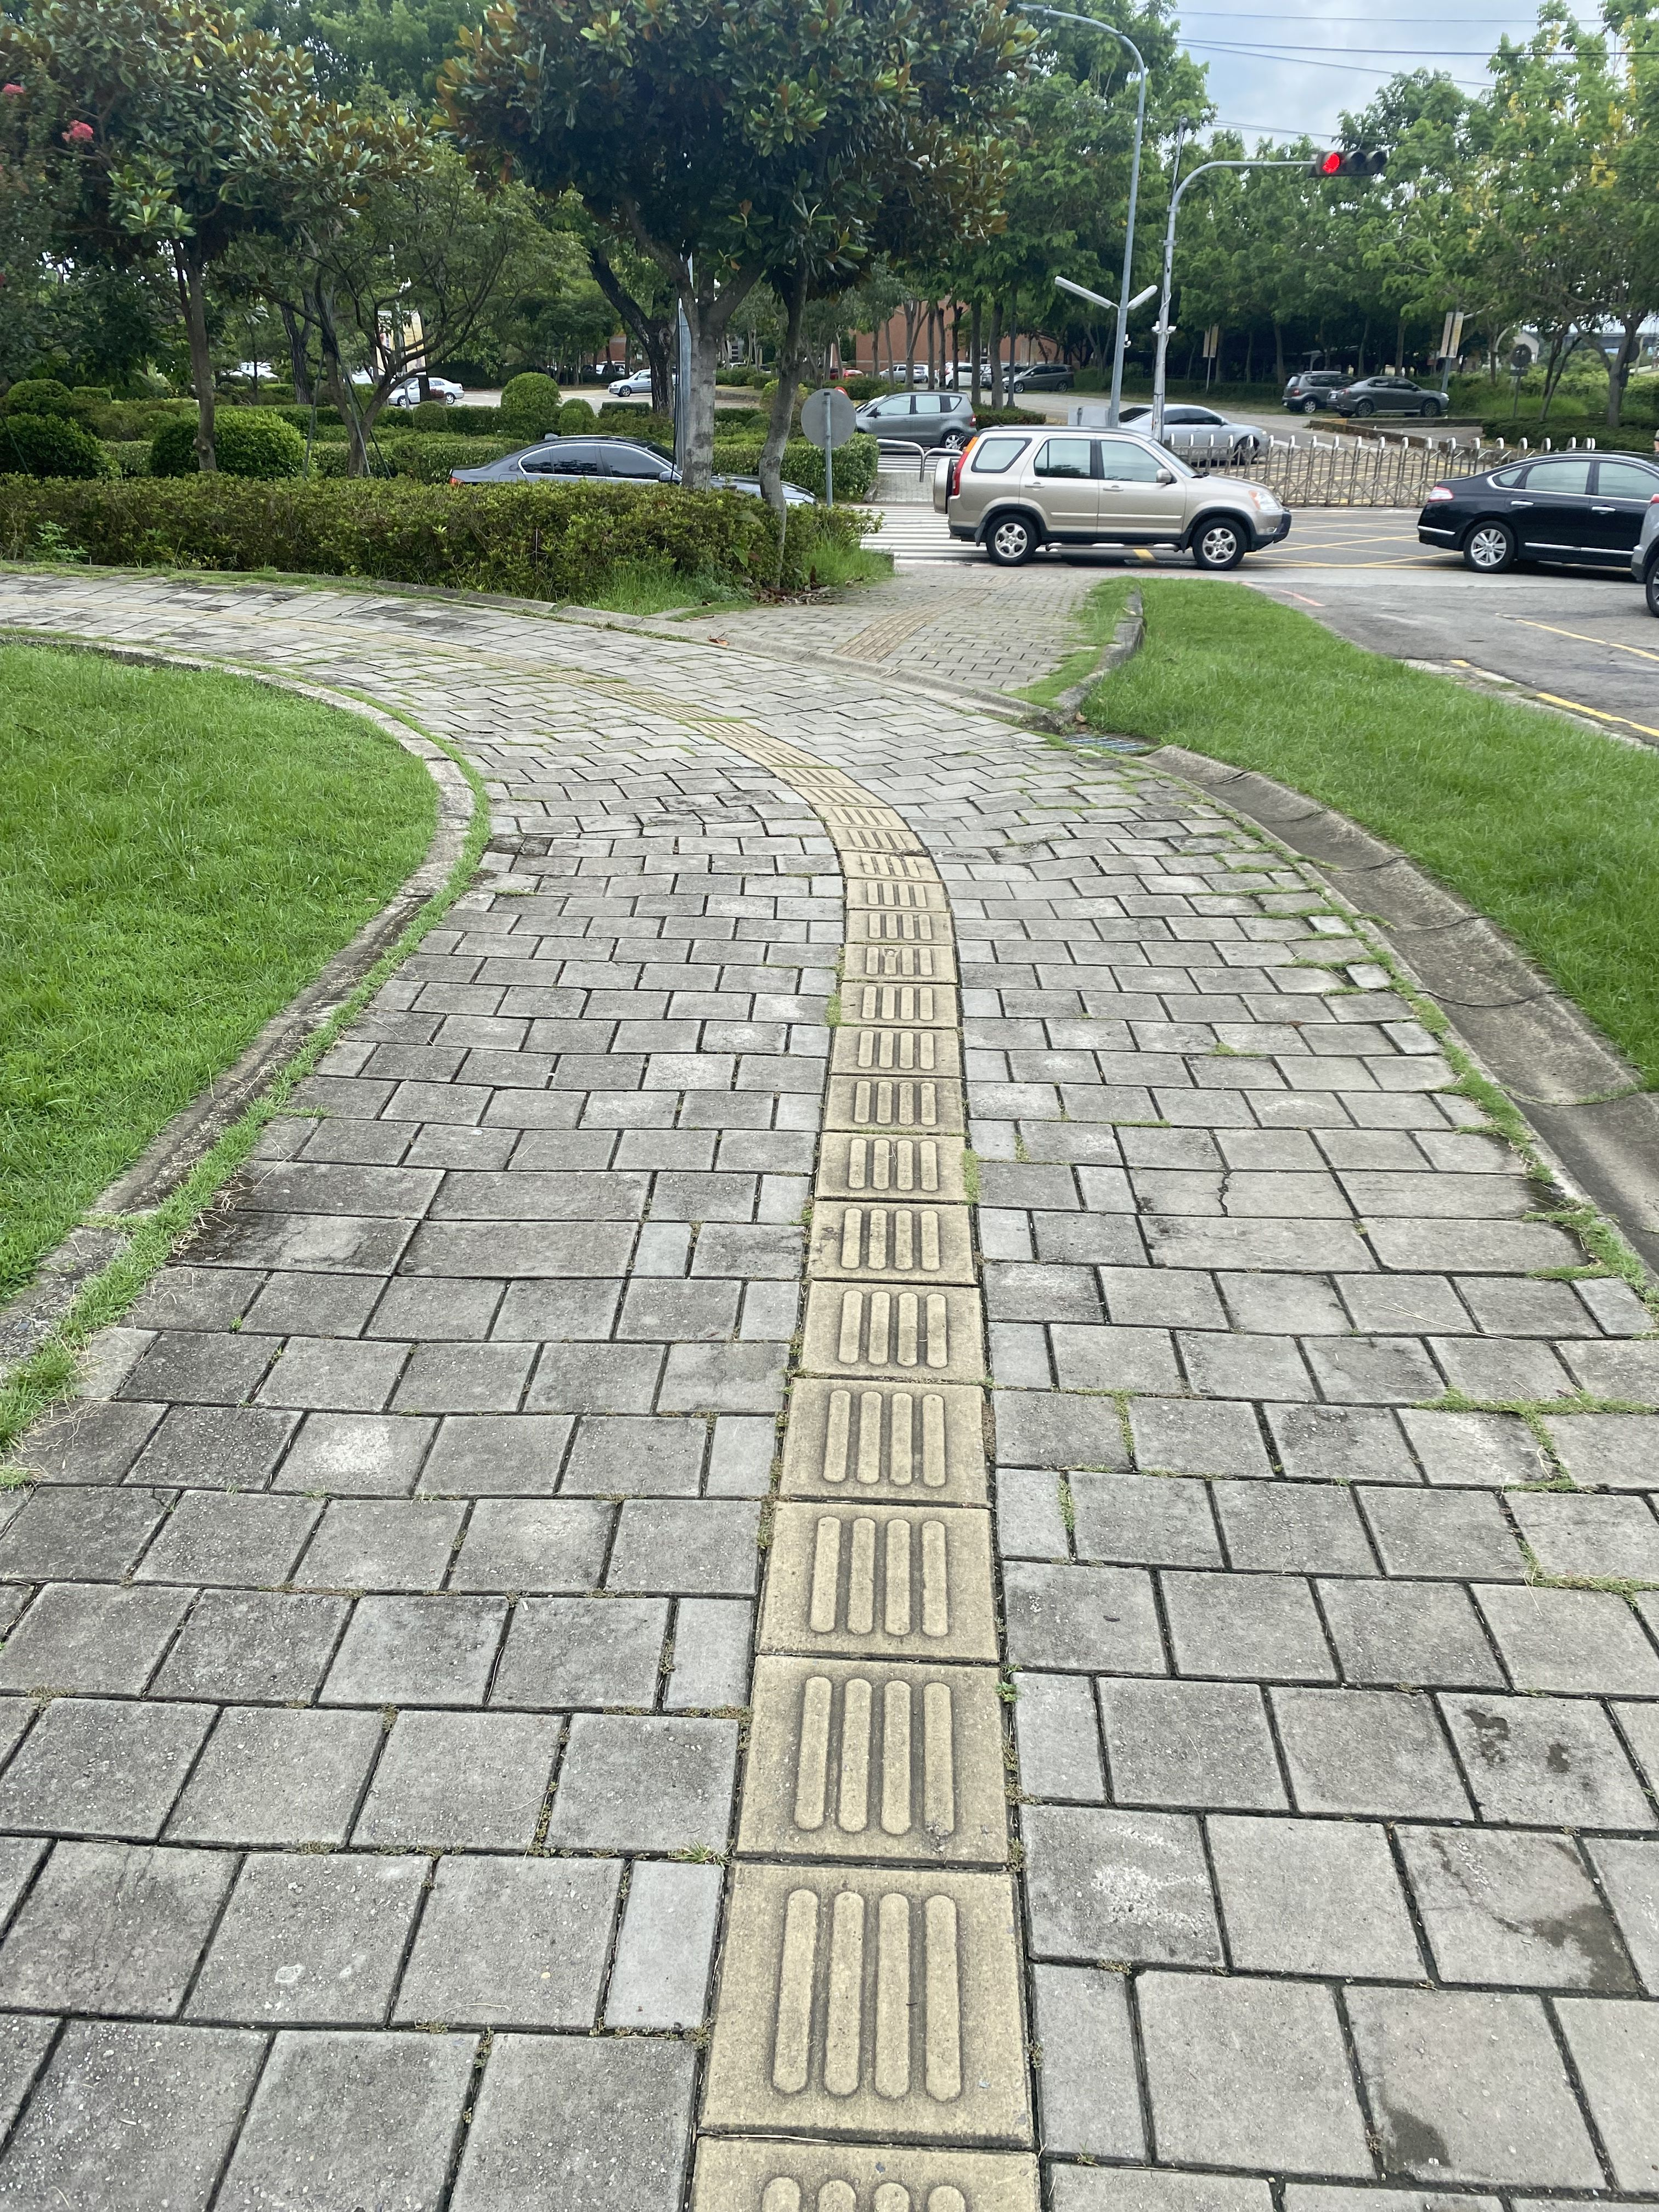sidewalk: (12, 550, 1659, 2212)
